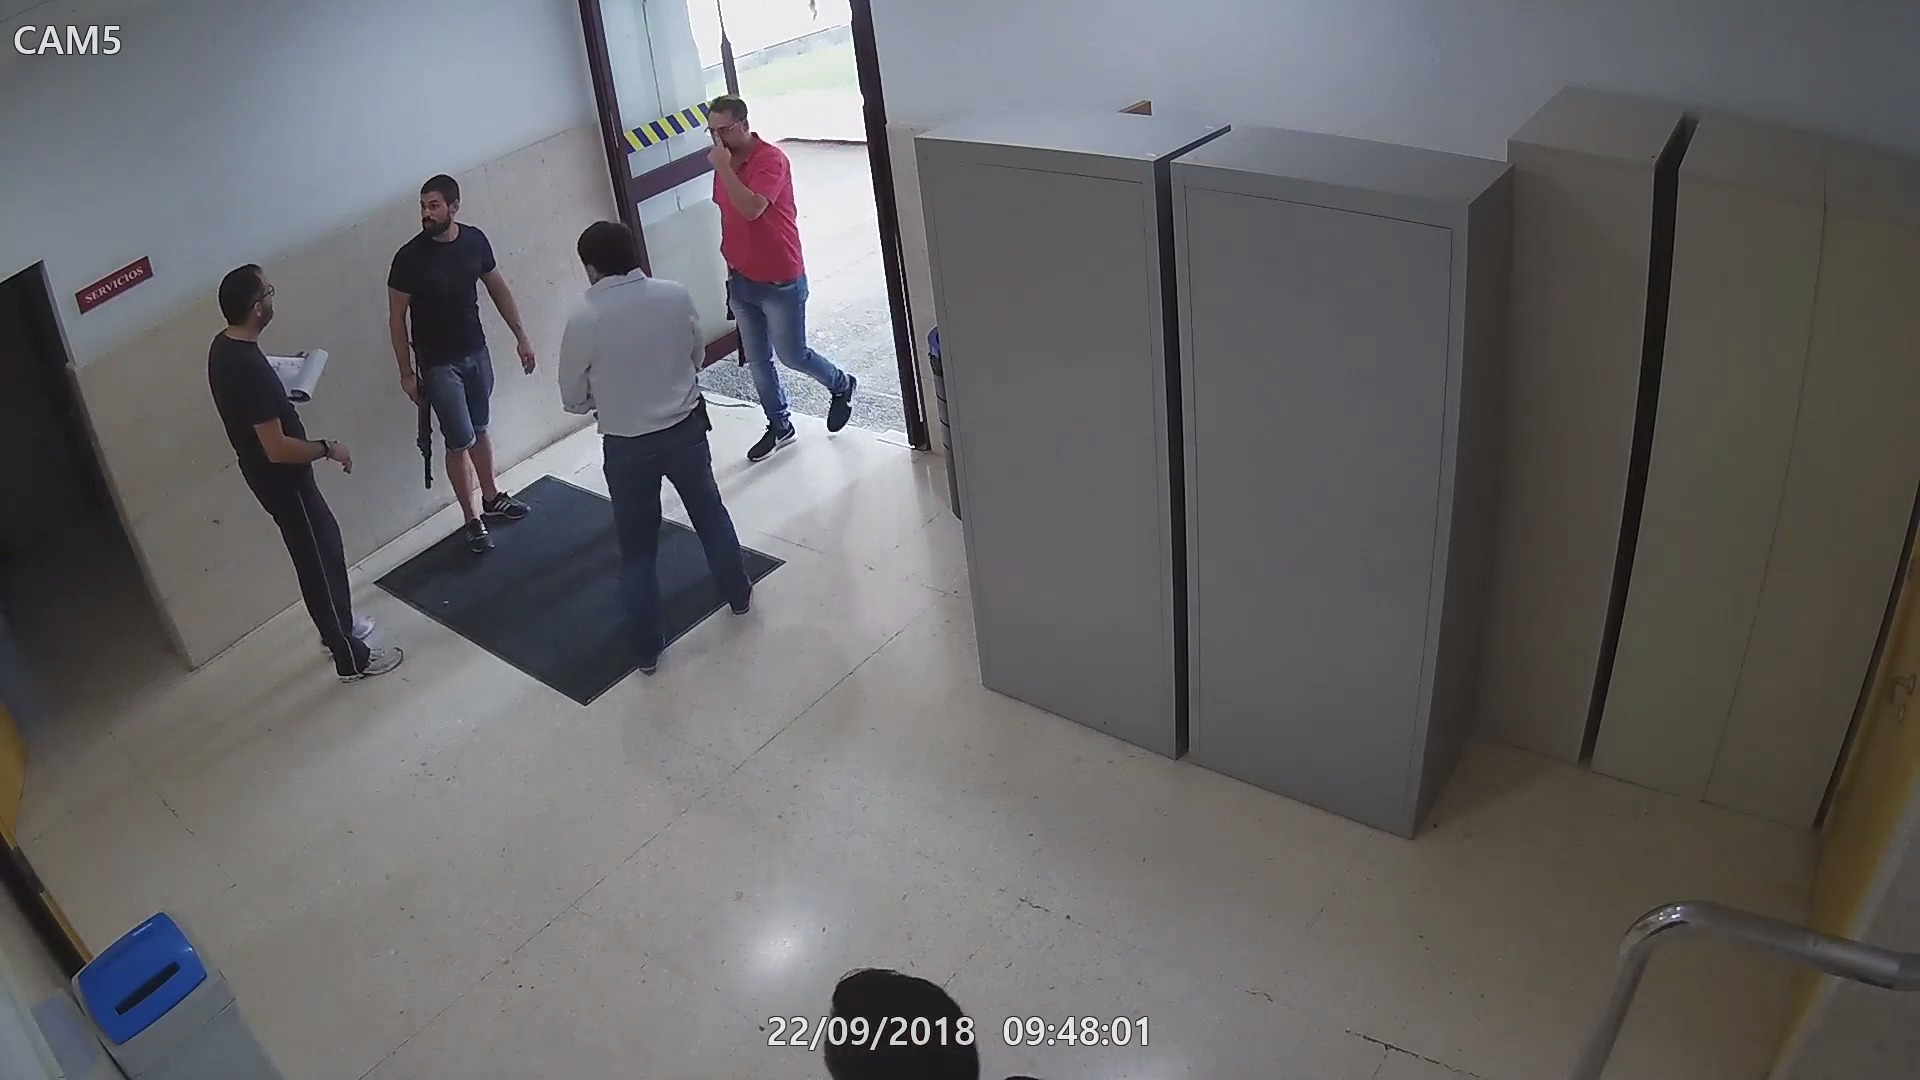Short_rifle: (396, 363, 436, 495), (721, 265, 753, 371)
